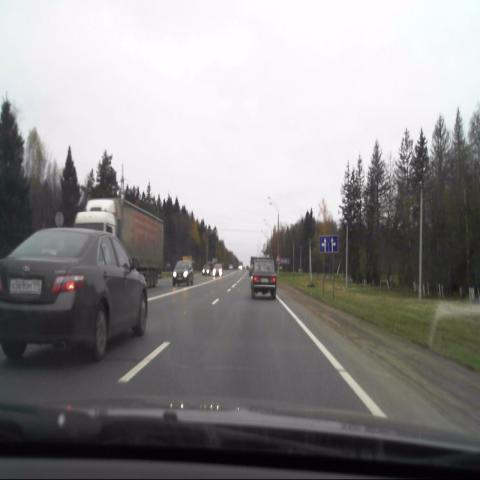5_15_2_2: (319, 235, 338, 252)
